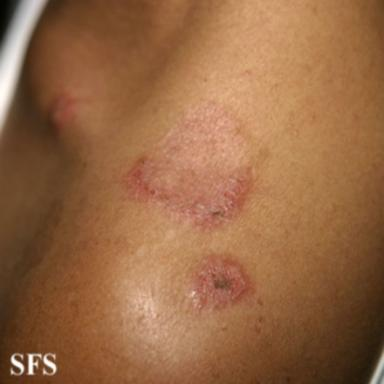Hailey-Hailey-Disease: (124, 156, 251, 227), (187, 255, 253, 309)
